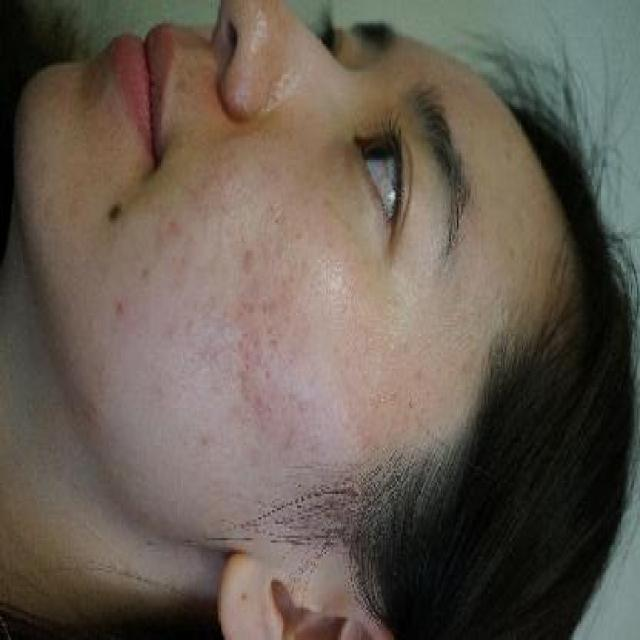dark spot: (231, 236, 266, 288), (160, 213, 191, 241), (108, 290, 129, 329), (136, 260, 156, 288)
